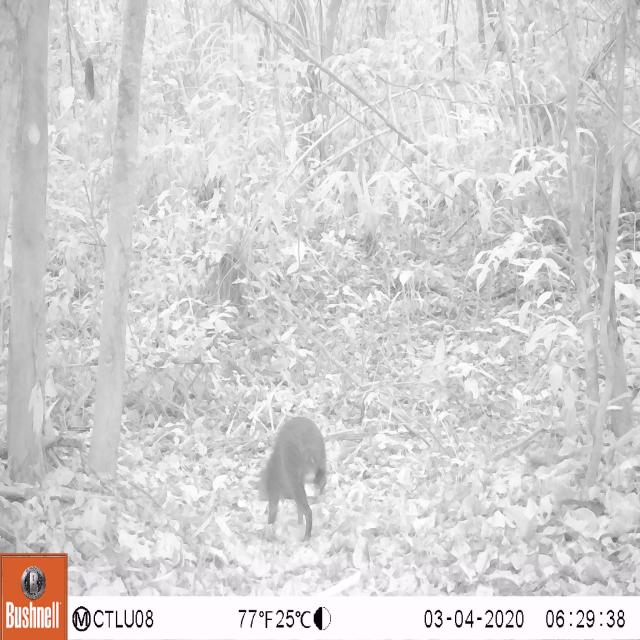Black Agouti: (249, 412, 332, 548)
